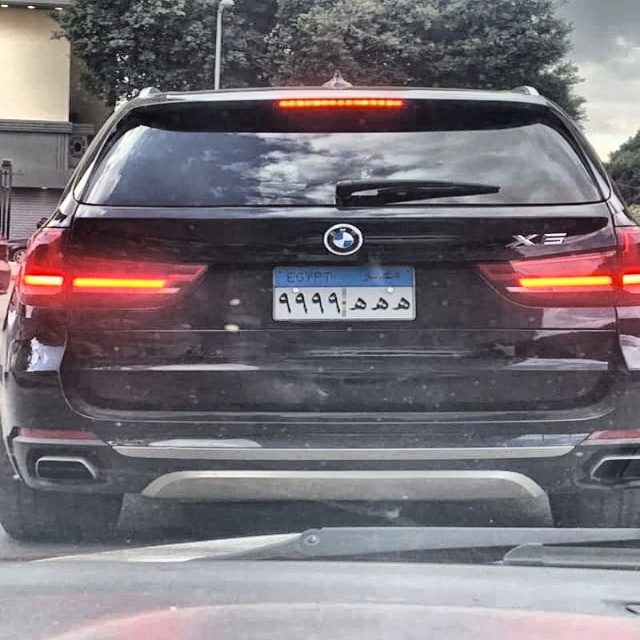License Plate: (269, 263, 420, 324)
